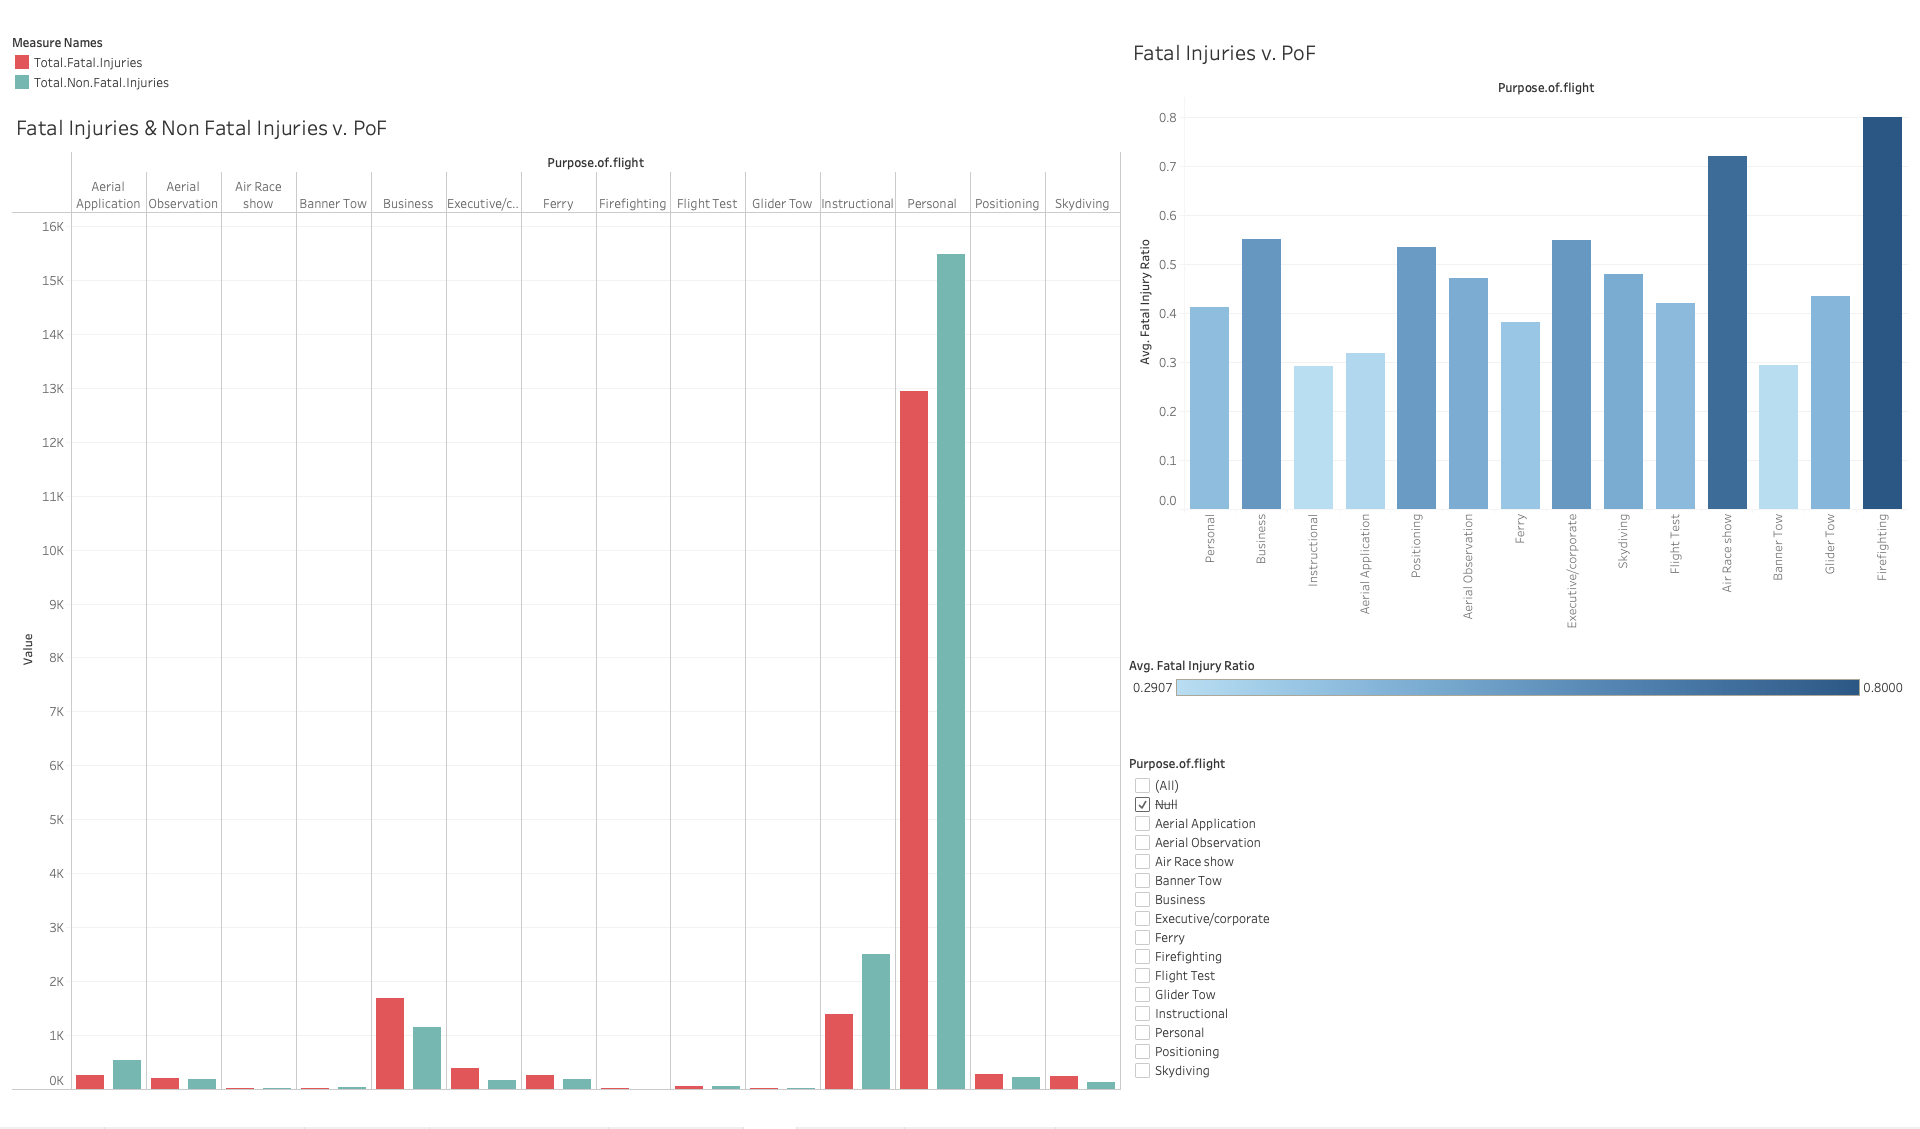

The page's visual inventory and layout, read from the dashboard file:
{"tool":"tableau","page":{"name":"PoF","canvas":[1000,1000],"units":"permille","ordinal":3},"visuals":[{"type":"legend","title":"Fatal Injuries & Non Fatal Injuries v. PoF","param":"[federated.0o84kao1vl792v117vuy905yovts].[:Measure Names]","box":[4.2,7.9,576,69.3]},{"type":"worksheet","title":"Fatal Injuries v. PoF","mark":"Automatic","rows":["Fatal_Injury_Ratio"],"cols":["Purpose.of.flight"],"box":[580.3,7.9,415.5,549.8]},{"type":"worksheet","title":"Fatal Injuries & Non Fatal Injuries v. PoF","mark":"Automatic","cols":["Purpose.of.flight"],"box":[4.2,77.2,576,914.9]},{"type":"legend","title":"Fatal Injuries v. PoF","param":"[federated.0o84kao1vl792v117vuy905yovts].[avg:Fatal_Injury_Ratio:qk]","box":[580.3,557.6,415.5,96.5]},{"type":"filter","title":"Fatal Injuries & Non Fatal Injuries v. PoF","param":"[federated.0o84kao1vl792v117vuy905yovts].[none:Purpose.of.flight:nk]","box":[580.3,654.2,415.5,337.9]}]}

Visuals, with their boxes on the dashboard's canvas, which has no fixed pixel size, in thousandths of its width and height (x1, y1, x2, y2). These are canvas units, not pixel positions in the 1920x1129 screenshot, which may show the page scaled, cropped or inside an application window:
"Fatal Injuries & Non Fatal Injuries v. PoF" legend: box(4, 8, 580, 77)
"Fatal Injuries v. PoF" worksheet: box(580, 8, 996, 558)
"Fatal Injuries & Non Fatal Injuries v. PoF" worksheet: box(4, 77, 580, 992)
"Fatal Injuries v. PoF" legend: box(580, 558, 996, 654)
"Fatal Injuries & Non Fatal Injuries v. PoF" filter: box(580, 654, 996, 992)
